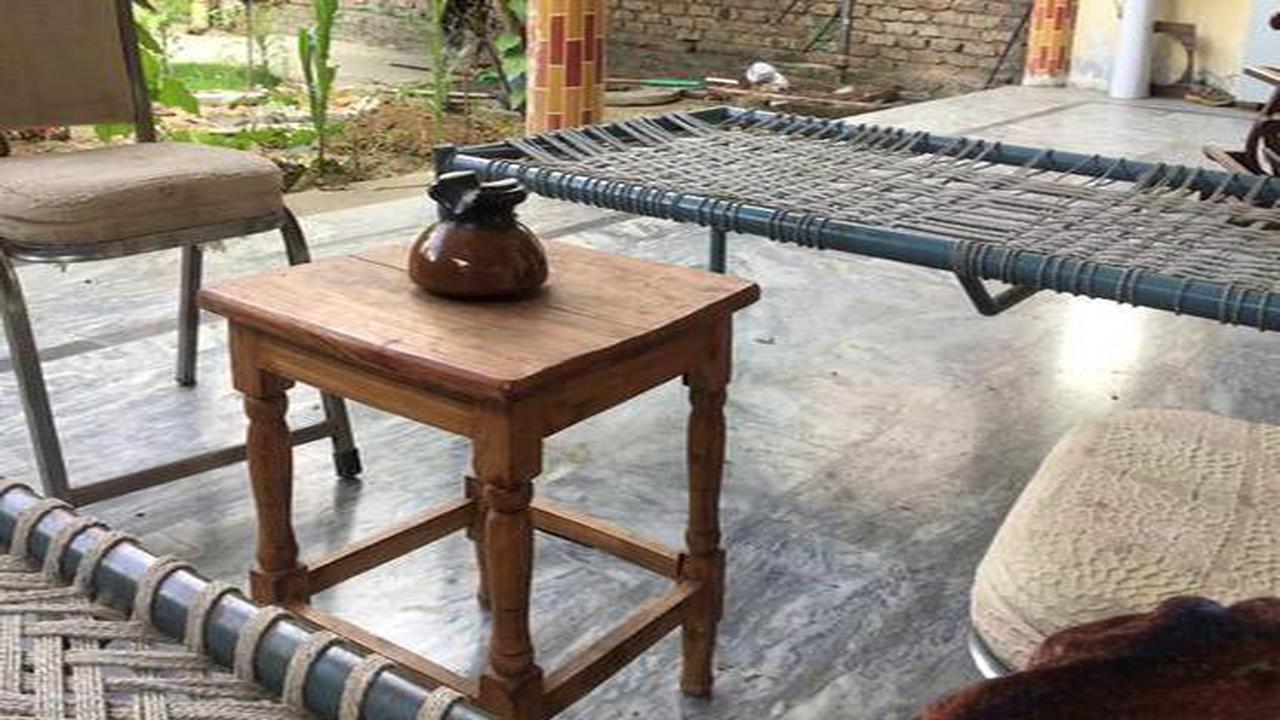insulator_pin: (394, 160, 570, 310)
